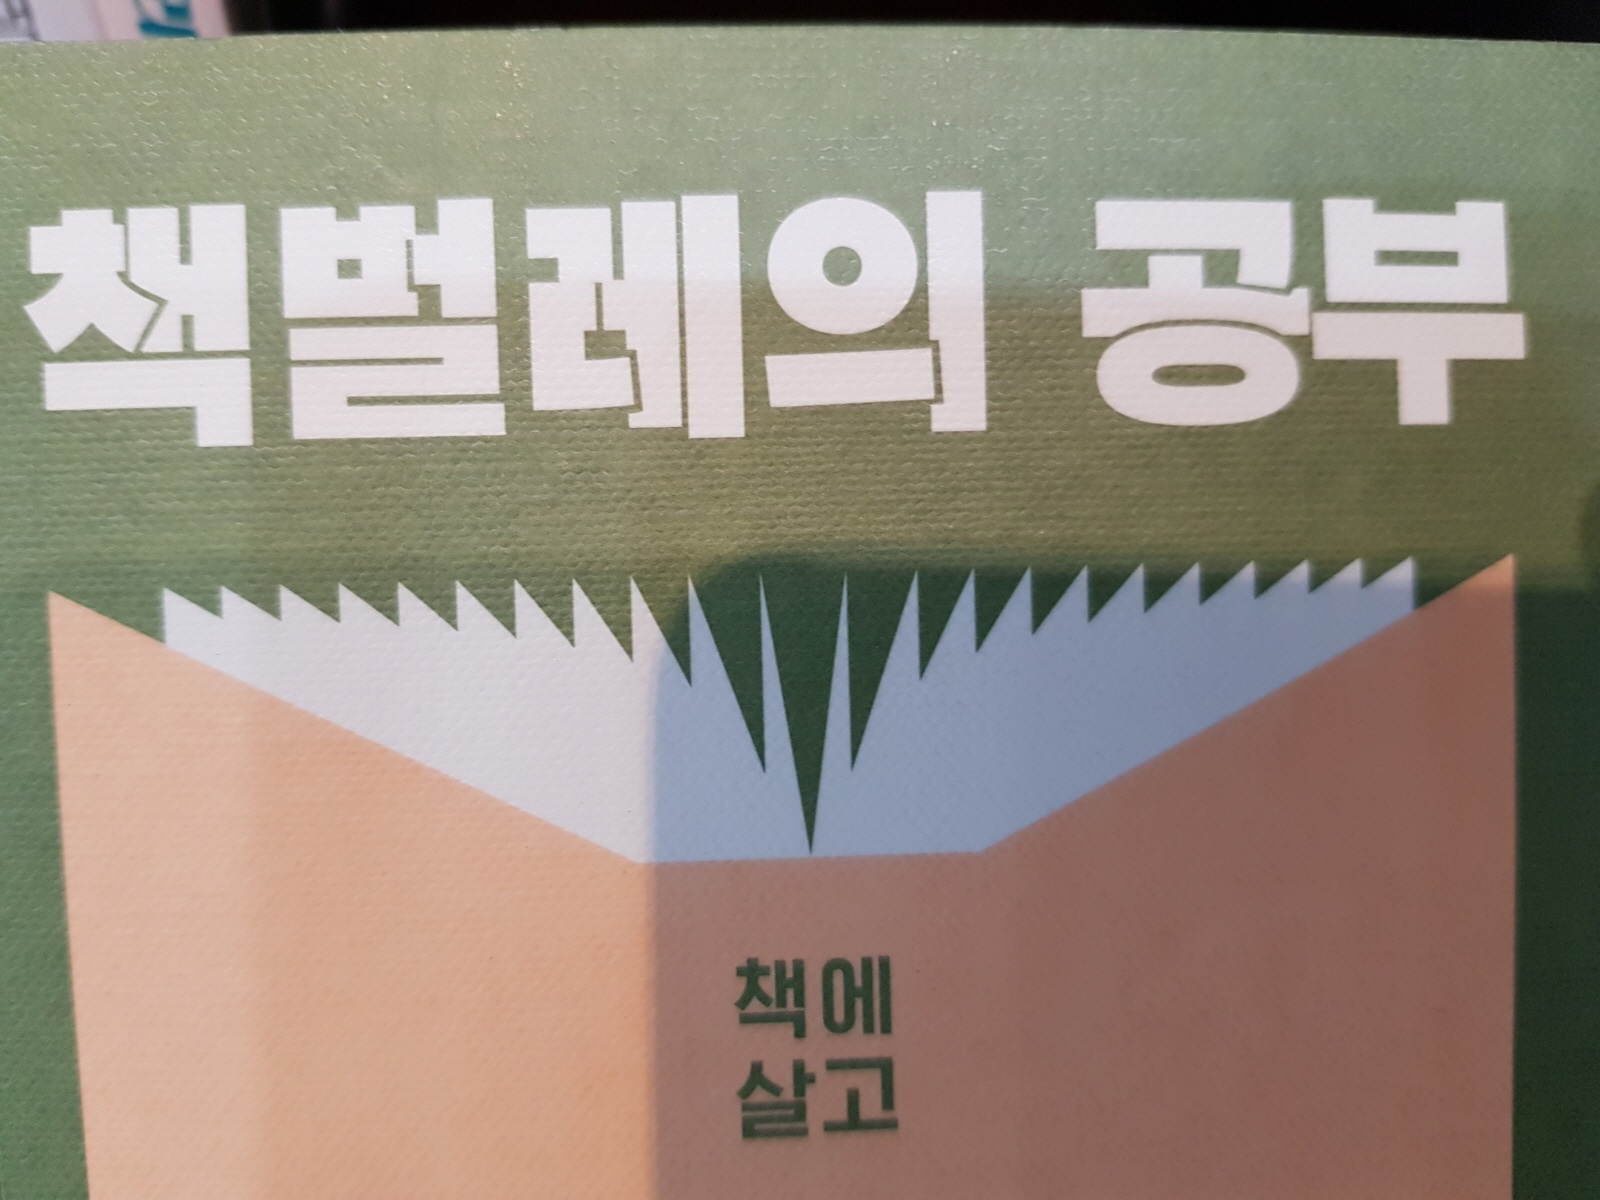text: (3, 145, 1556, 480), (718, 934, 932, 1160), (0, 1, 208, 43)
